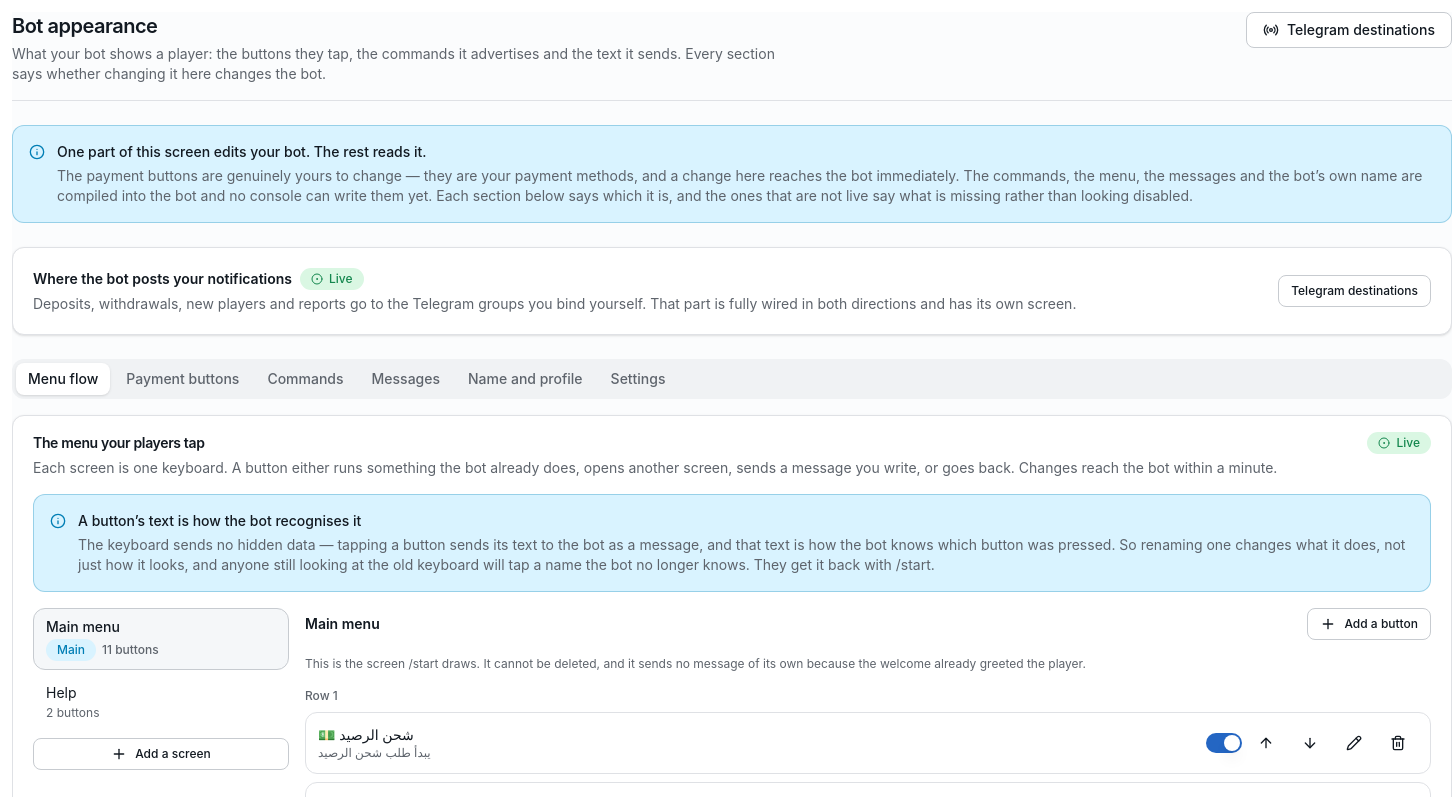
Test case: on the page › sits on its own tab, marked live
This screenshot has width=1452, height=797.
Click the tab "Settings" at (638, 379), box [599, 363, 678, 395]
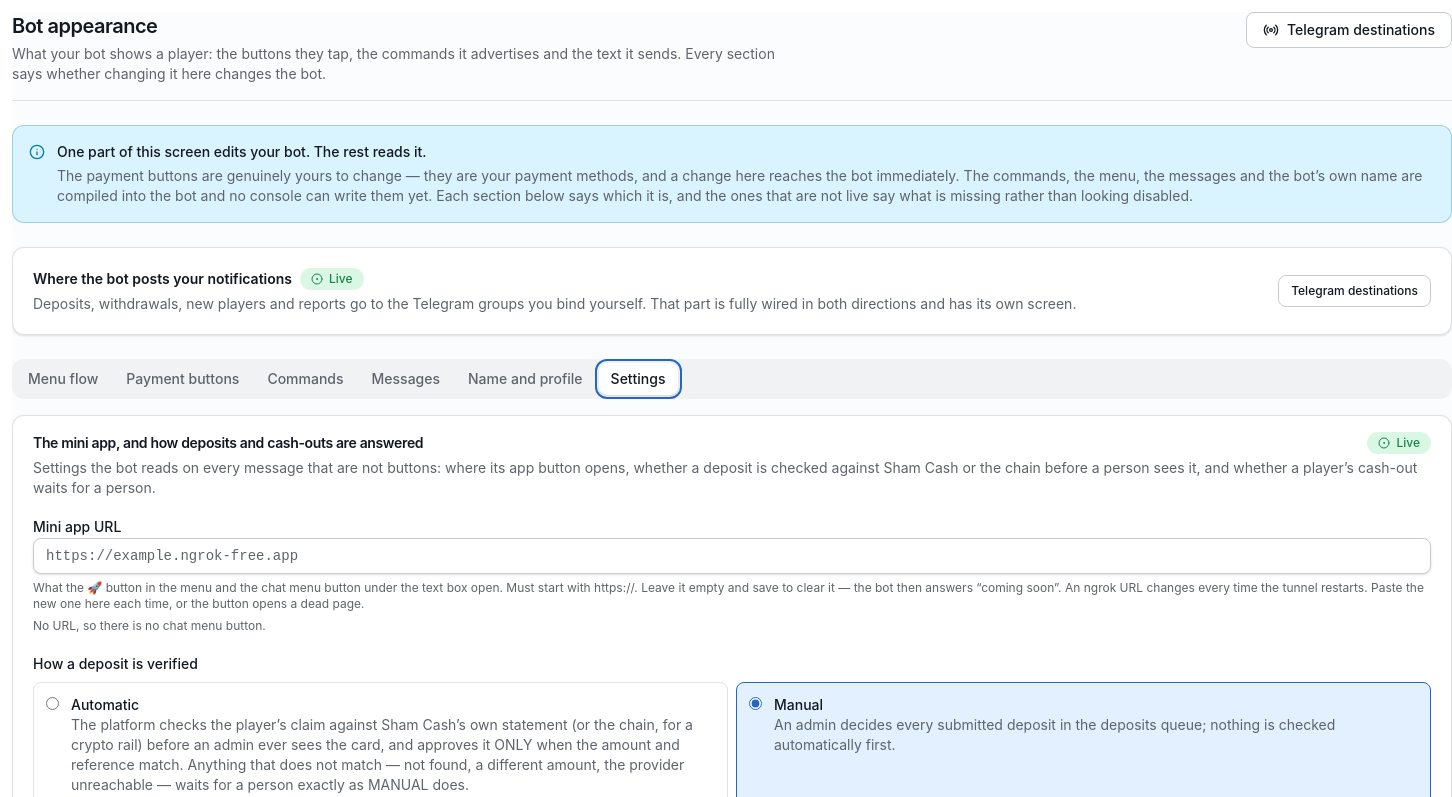
Check: the element "The mini app, and how deposits and cash-outs are answered" shows "Live", box [1396, 435, 1420, 450]
Check: the field labelled "Mini app URL" is shown, box [33, 538, 1431, 574]
